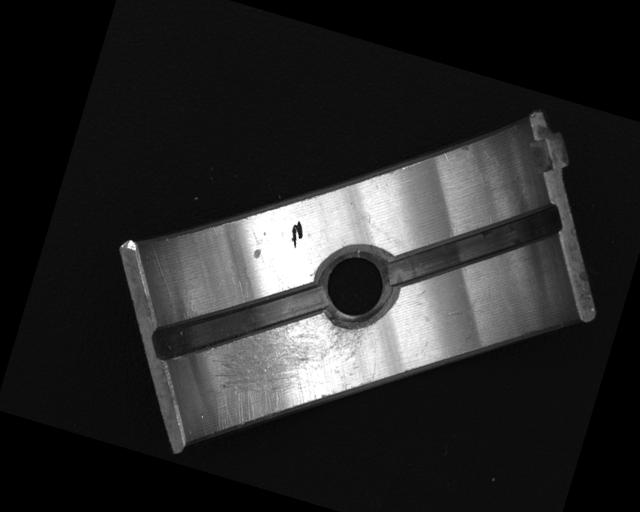blot: (286, 219, 307, 250)
bruise: (251, 247, 262, 260)
gap: (379, 164, 567, 326), (145, 247, 325, 398)
hole: (307, 237, 408, 335)
scratch: (192, 284, 371, 464)
